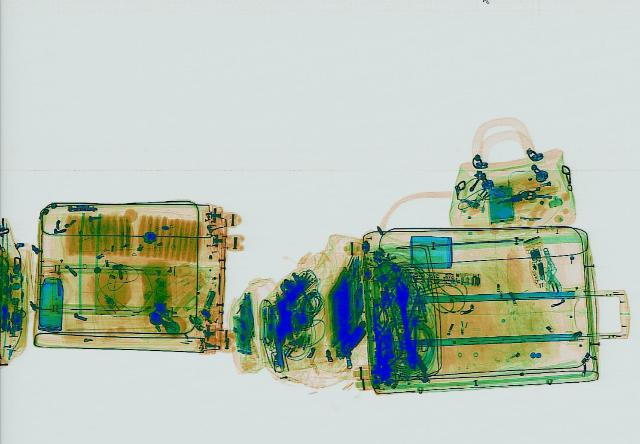Wrench: (388, 280, 424, 369)
